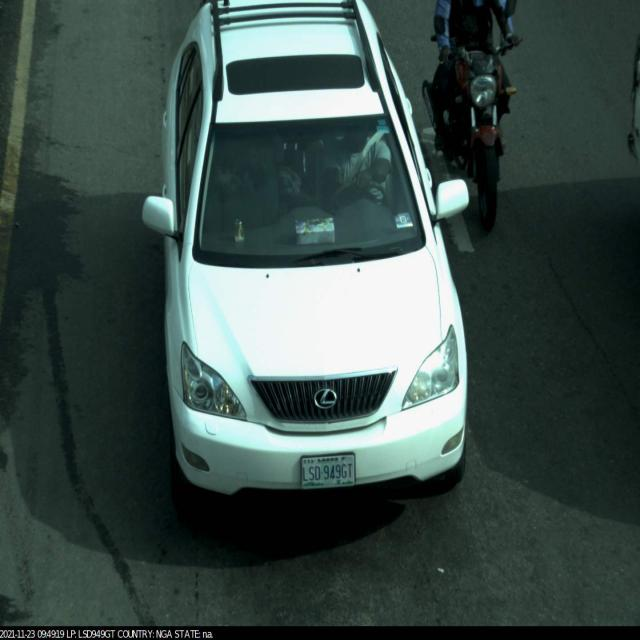windshield: (193, 97, 430, 272)
